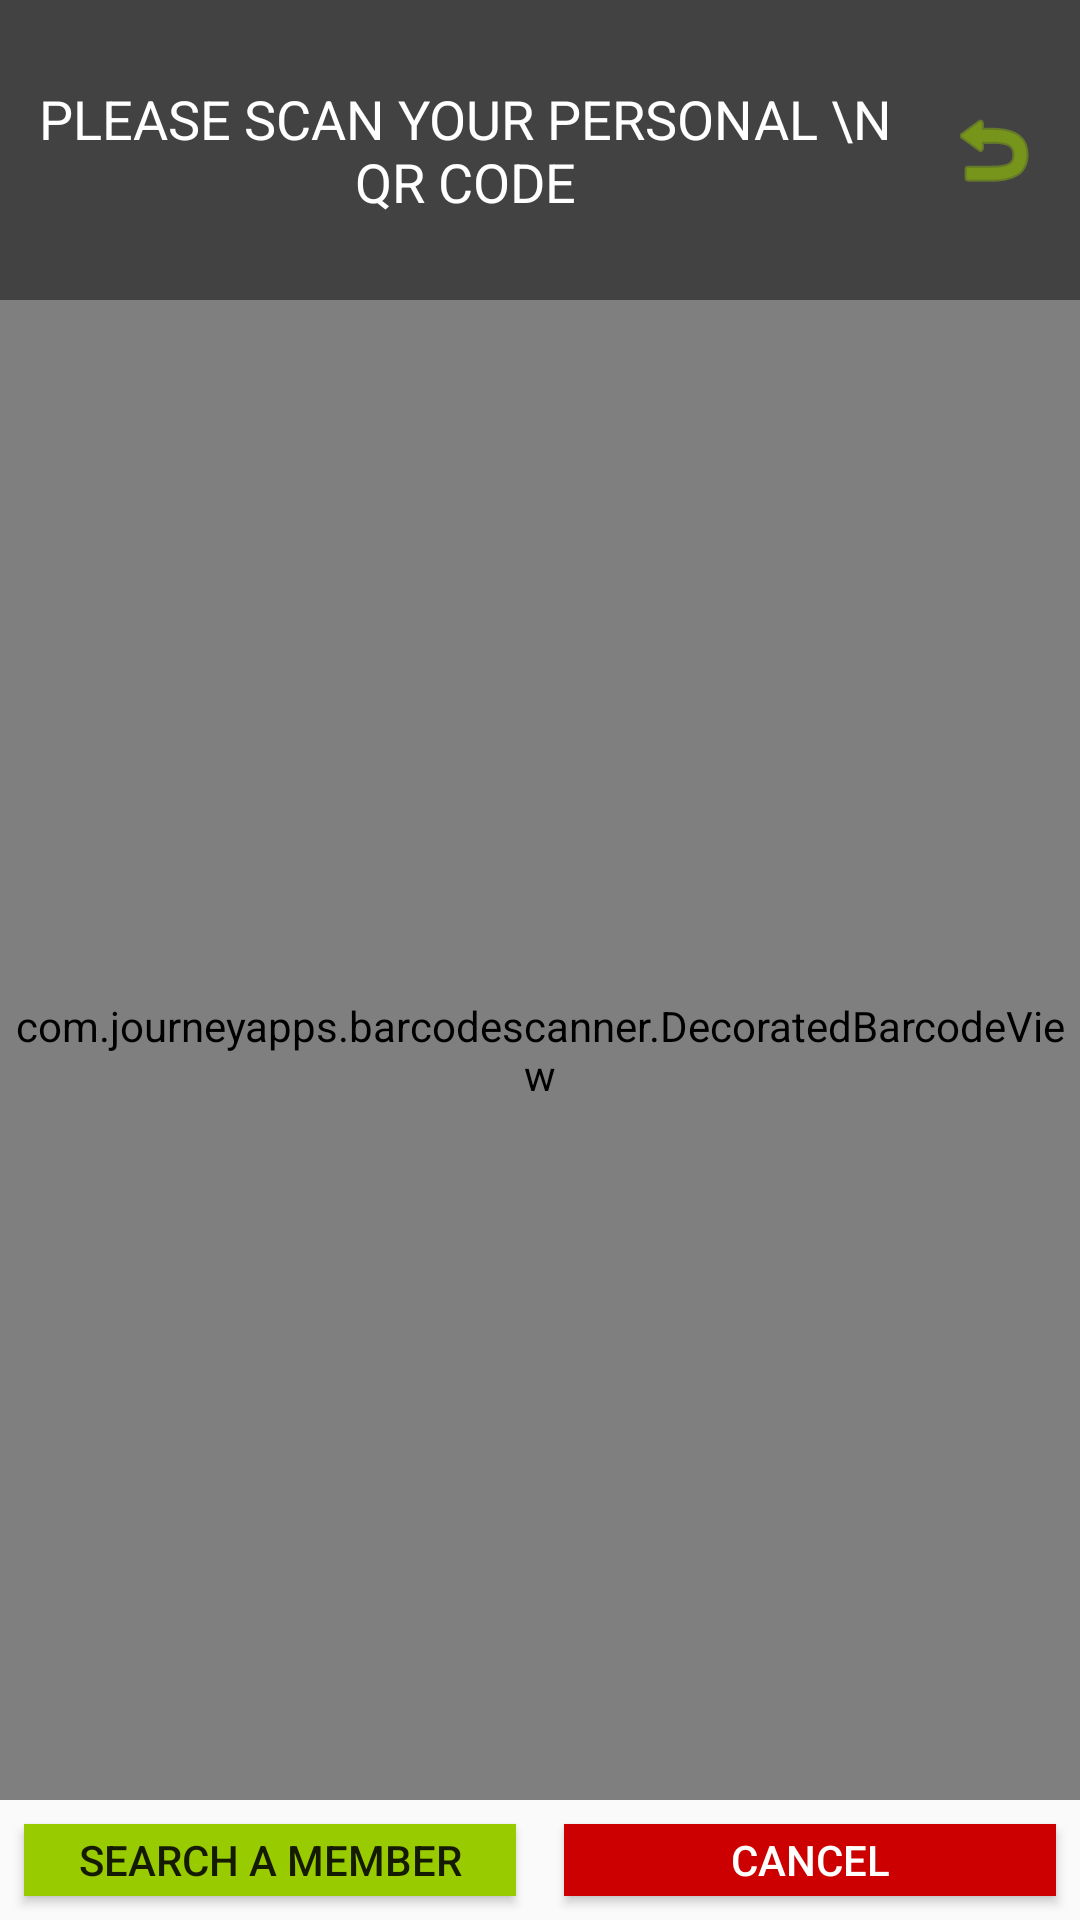

Icon bounding boxes for this 1080w x 1920h phone screenshot, format (x1, y1, x2, y2):
revert: (960, 120, 1029, 182)
